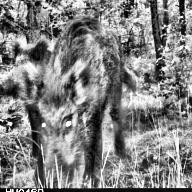boar: (20, 23, 122, 190)
